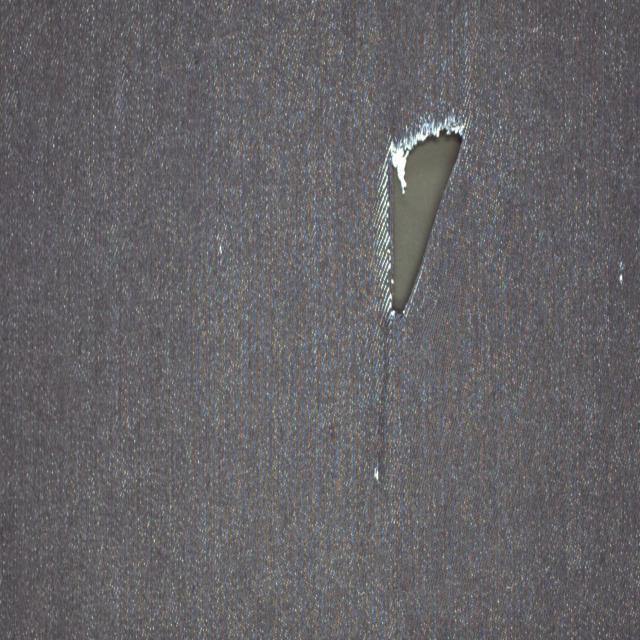Hole: (374, 109, 473, 320)
